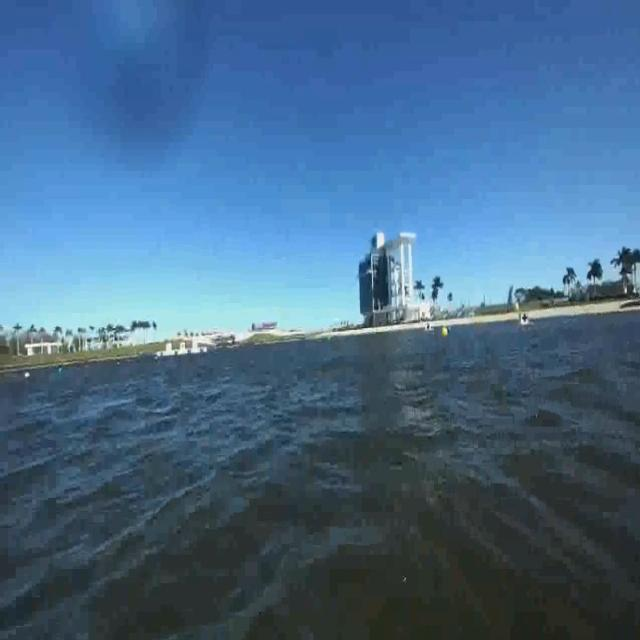yellow-buoy: (442, 324, 450, 338)
